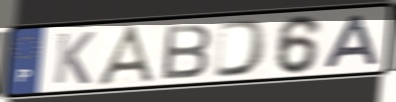6: (275, 13, 323, 75)
A: (94, 23, 161, 86), (322, 13, 382, 70)
B: (160, 22, 214, 82)
D: (211, 18, 270, 80)
K: (51, 30, 97, 86)
